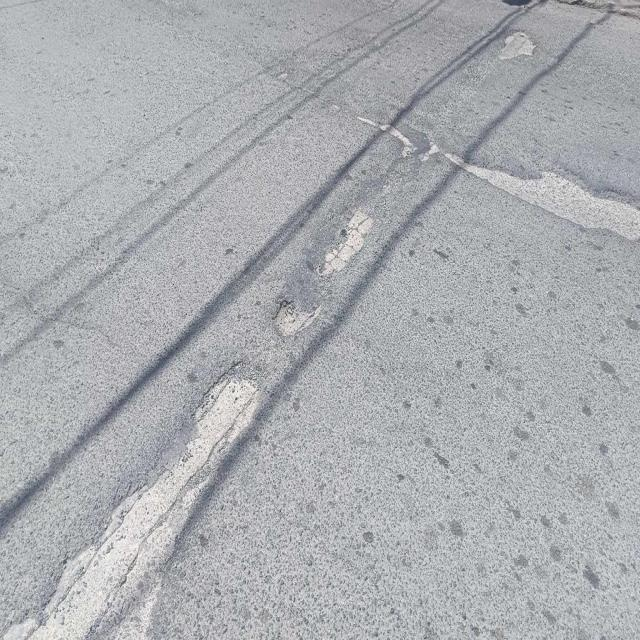pothole: (0, 345, 271, 640), (349, 84, 640, 322), (248, 236, 342, 412), (484, 5, 554, 96)
